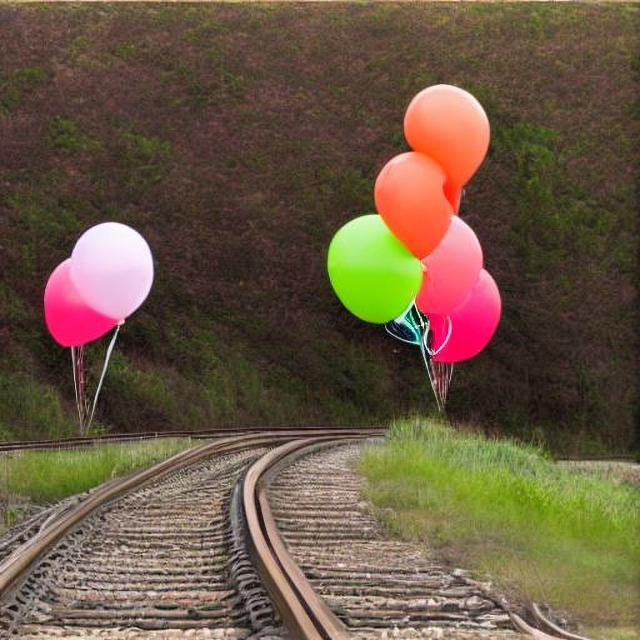balloon: (332, 77, 522, 372), (38, 220, 153, 358)
